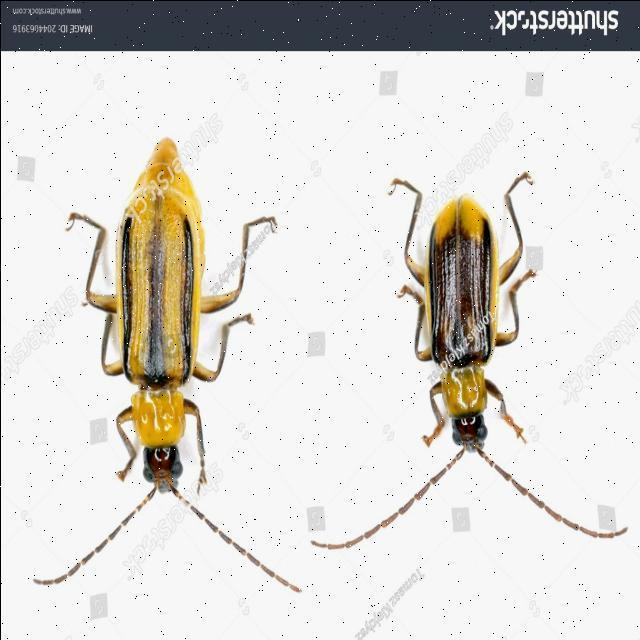trips: (29, 140, 301, 600), (308, 173, 628, 551)
